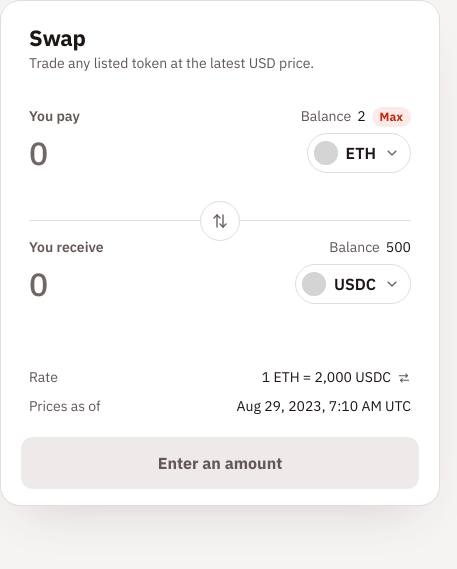
SwapForm › ignores characters that are not part of a number
Type "1a.2.5" into the field labelled "You pay". click: (162, 153)
box: [29,133,295,173]
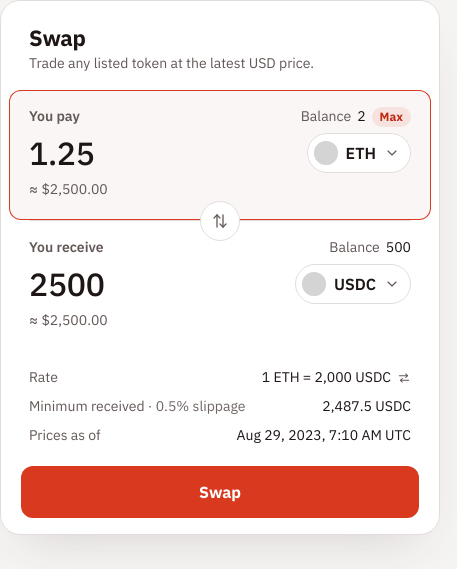
Now the field labelled "You pay" holds "1.25", box [29,133,295,173]
